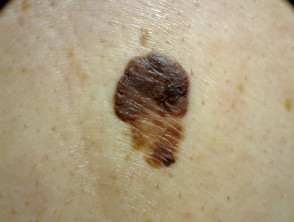melanoma: (67, 41, 217, 177)
